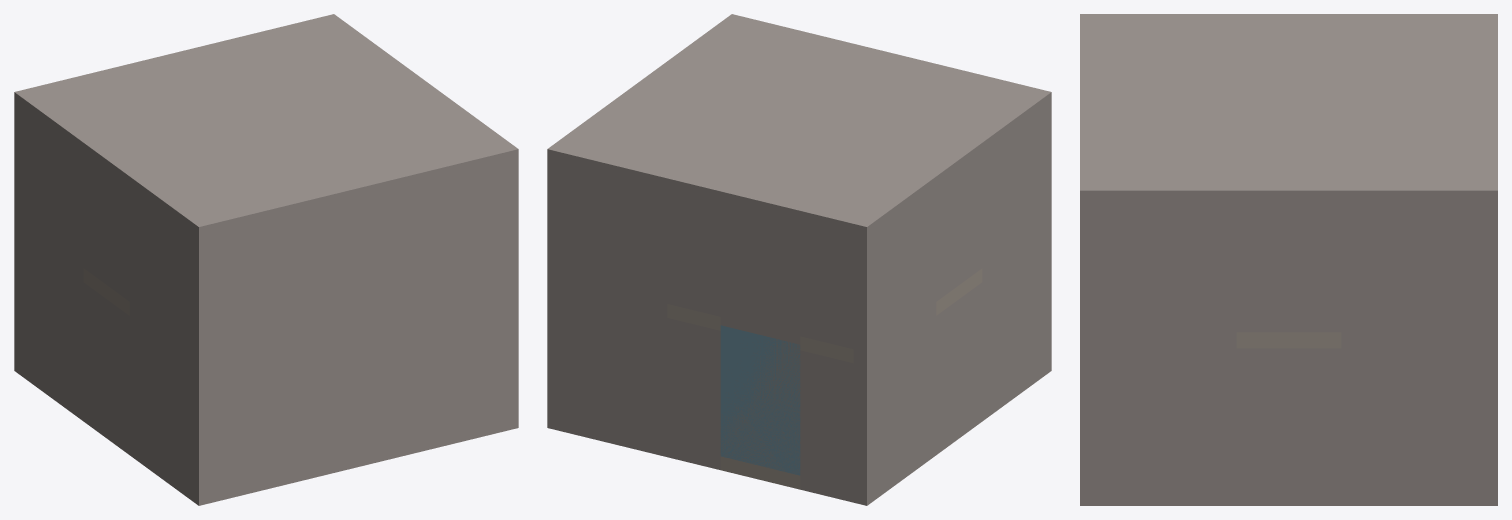
The model's file is creek-sink-mirror.glb.
3 views of the same model, side by side, from view 1: azimuth 30°, elevation 25°; view 2: azimuth 150°, elevation 25°; view 3: azimuth 270°, elevation 25° (orthographic). The views are drawn at different scales.
Visible parts, largest first — view 1: rock_32, rock_8, rock_28, rock_4, rock_1, rock_24, rock_21, rock_13, rock_7, rock_6, plug_west, rock_27 (+5 smaller); view 2: rock_32, rock_2, plug_creek_north, rock_22, rock_1, rock_4, water_1, rock_21, rock_24, rock_9, rock_10, rock_13 (+8 smaller); view 3: rock_32, rock_5, rock_3, rock_25, rock_23, rock_14, plug_east, rock_31, rock_2, rock_22, cave-floor_10.
Part boxes in pixels (x1,y1,x2,y2): rock_32: (14,14,518,240); rock_8: (239,284,478,495); rock_28: (239,173,478,342); rock_4: (129,302,212,505); rock_1: (14,218,83,421); rock_24: (129,191,212,352); rock_21: (14,106,83,267); rock_13: (83,282,129,454); rock_7: (478,278,505,437); rock_6: (212,343,238,502); plug_west: (83,185,129,301); rock_27: (478,166,505,284); rock_32: (547,14,1051,240); rock_2: (547,274,667,456); plug_creek_north: (667,206,853,349); rock_22: (547,163,667,303); rock_1: (853,302,936,505); rock_4: (982,218,1051,421); water_1: (720,325,800,475); rock_21: (853,191,936,352); rock_24: (982,106,1051,267); rock_9: (800,350,853,502); rock_10: (667,318,720,469); rock_13: (936,282,982,454); rock_32: (1080,14,1497,206); rock_5: (1080,332,1236,505); rock_3: (1341,332,1480,505); rock_25: (1080,206,1236,332); rock_23: (1341,206,1480,332); rock_14: (1236,348,1341,505); plug_east: (1236,238,1341,332); rock_31: (1236,206,1341,237); rock_2: (1480,332,1497,505); rock_22: (1480,206,1497,332); cave-floor_10: (1236,332,1341,348).
Bounding box in the file's own units: 12 × 10 × 12.
